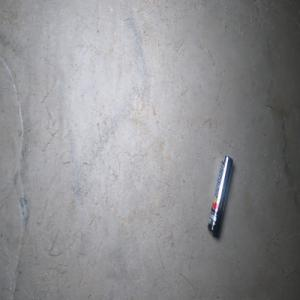Battery: (207, 154, 233, 238)
